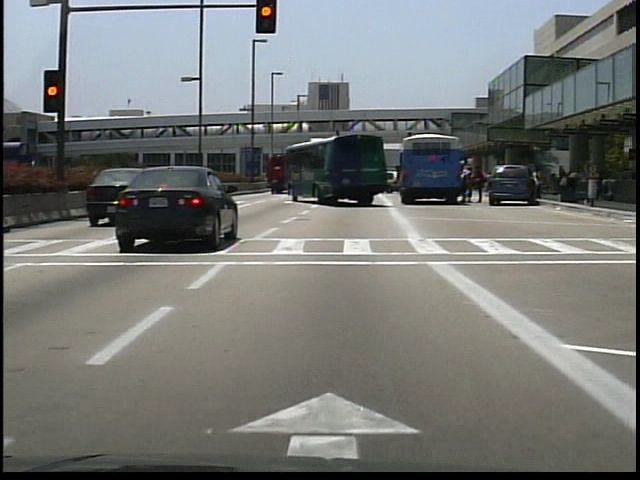person: (462, 163, 477, 204), (472, 163, 486, 206), (530, 168, 542, 206)
